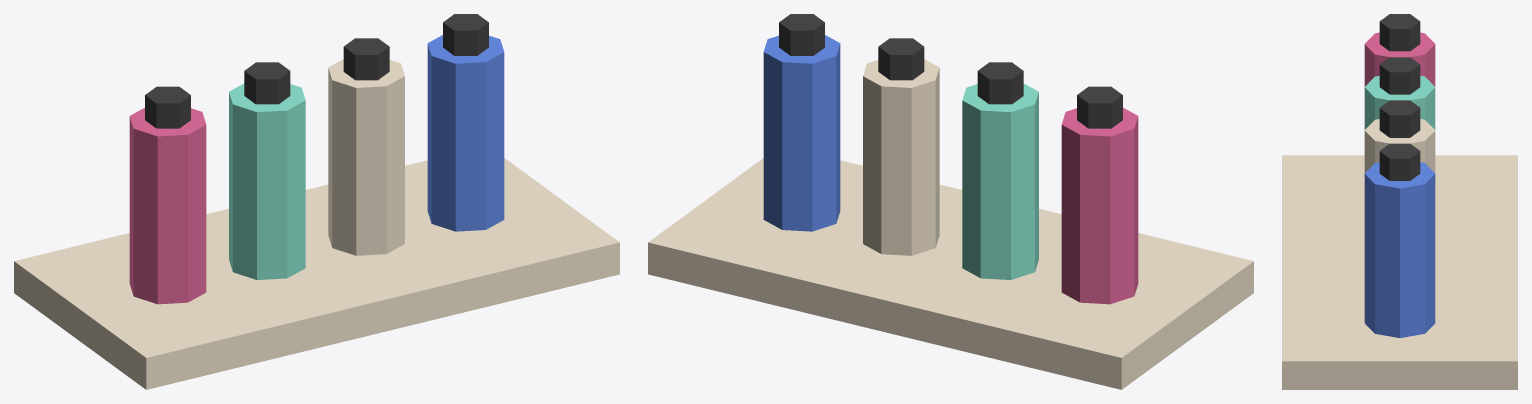
3 views of the same model, side by side, from view 1: azimuth 30°, elevation 25°; view 2: azimuth 150°, elevation 25°; view 3: azimuth 270°, elevation 25° (orthographic). The views are drawn at different scales.
Parts seen in each view (by area): view 1: Vanity tray, Bottle, Bottle.003, Bottle.001, Bottle.002, Bottle cap.001, Bottle cap.002, Bottle cap, Bottle cap.003; view 2: Vanity tray, Bottle, Bottle.003, Bottle.001, Bottle.002, Bottle cap.001, Bottle cap.002, Bottle cap, Bottle cap.003; view 3: Vanity tray, Bottle.003, Bottle.001, Bottle, Bottle.002, Bottle cap.002, Bottle cap, Bottle cap.001, Bottle cap.003.
Part boxes in pixels (left/top/right/bottom): Vanity tray: left=14, top=158, right=619, bottom=389; Bottle: left=129, top=107, right=206, bottom=304; Bottle.003: left=427, top=35, right=504, bottom=231; Bottle.001: left=229, top=83, right=305, bottom=279; Bottle.002: left=328, top=59, right=404, bottom=255; Bottle cap.001: left=244, top=62, right=290, bottom=104; Bottle cap.002: left=343, top=38, right=389, bottom=80; Bottle cap: left=145, top=86, right=190, bottom=128; Bottle cap.003: left=443, top=14, right=488, bottom=55; Vanity tray: left=648, top=158, right=1253, bottom=389; Bottle: left=1061, top=107, right=1138, bottom=304; Bottle.003: left=763, top=35, right=840, bottom=231; Bottle.001: left=962, top=83, right=1038, bottom=279; Bottle.002: left=863, top=59, right=939, bottom=255; Bottle cap.001: left=977, top=62, right=1023, bottom=104; Bottle cap.002: left=878, top=38, right=924, bottom=80; Bottle cap: left=1077, top=86, right=1122, bottom=128; Bottle cap.003: left=779, top=14, right=824, bottom=55; Vanity tray: left=1282, top=155, right=1517, bottom=389; Bottle.003: left=1364, top=162, right=1435, bottom=337; Bottle.001: left=1364, top=76, right=1435, bottom=129; Bottle: left=1364, top=32, right=1435, bottom=86; Bottle.002: left=1364, top=119, right=1435, bottom=172; Bottle cap.002: left=1379, top=100, right=1420, bottom=137; Bottle cap: left=1379, top=14, right=1420, bottom=51; Bottle cap.001: left=1379, top=57, right=1420, bottom=94; Bottle cap.003: left=1379, top=143, right=1420, bottom=180.
Size of the model in its own units: 0.62 by 0.2815 by 0.3.
1 material, 1 textured.
